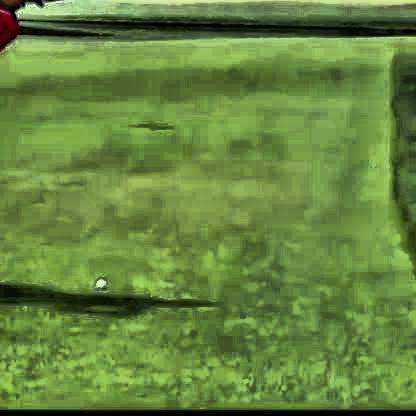golfball: (92, 273, 105, 289)
